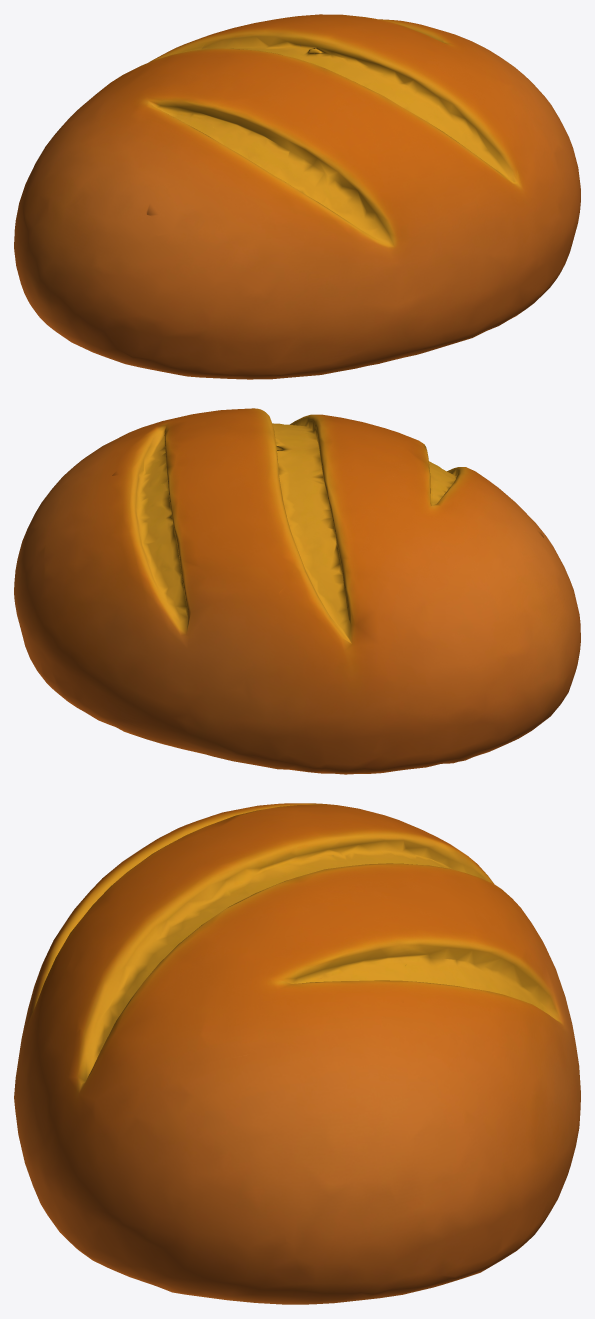
File: stage1-bread-token-tripo-color-a-v002.glb
3 views of the same model, one above another, from view 1: azimuth 30°, elevation 25°; view 2: azimuth 150°, elevation 25°; view 3: azimuth 270°, elevation 25° (orthographic). The views are drawn at different scales.
Visible parts, largest first — view 1: Stage1BreadToken; view 2: Stage1BreadToken; view 3: Stage1BreadToken.
Boxes of the visible parts, x1=… form: Stage1BreadToken: x1=14, y1=14, x2=580, y2=379; Stage1BreadToken: x1=14, y1=408, x2=580, y2=774; Stage1BreadToken: x1=14, y1=803, x2=580, y2=1304.
Bounding box in the file's own units: 0.22 × 0.0982 × 0.163.
1 material, 1 textured.
